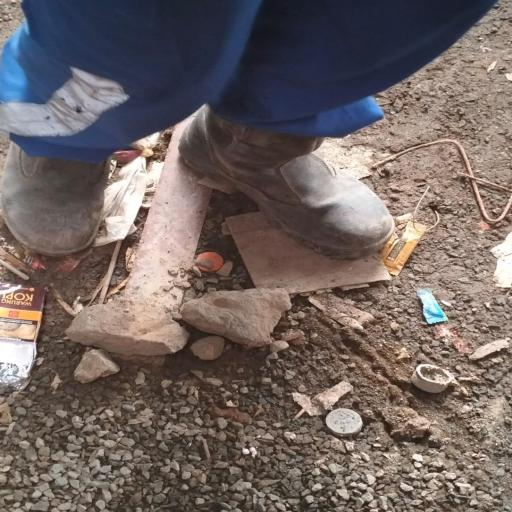safety_shoe: (185, 99, 412, 259)
